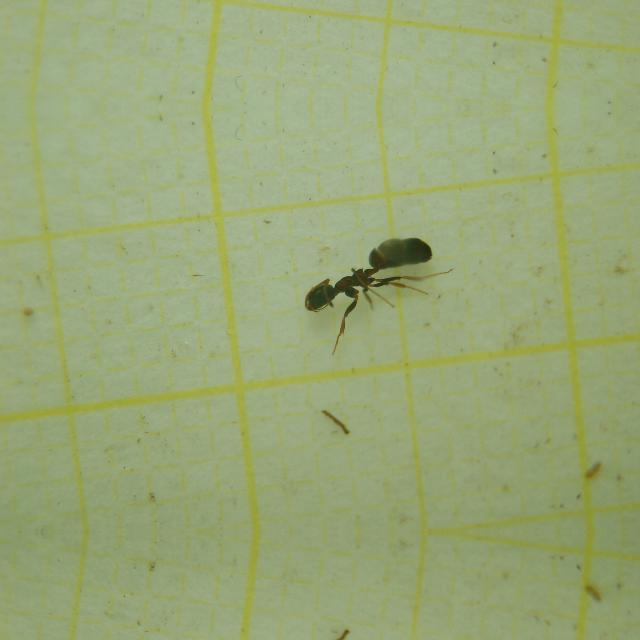Dolichoderus: (286, 225, 447, 331)
